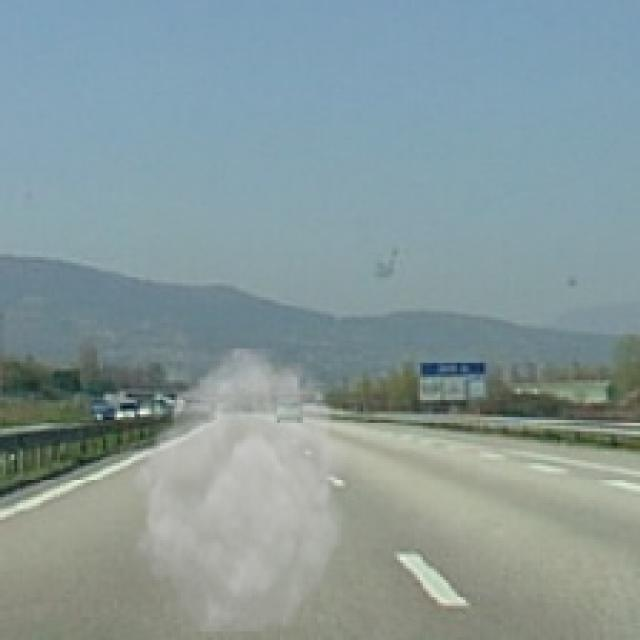smoke: (123, 348, 360, 632)
